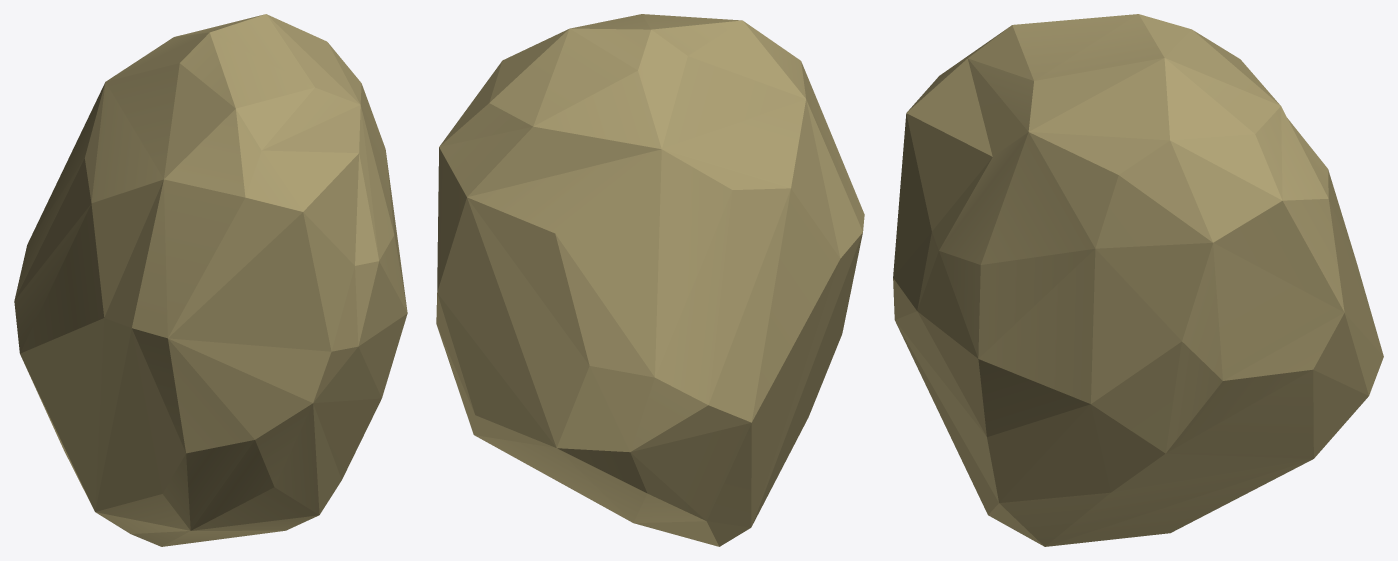
File: SM_small_rock_05.fbx
The picture shows the model from 3 angles, left to right: view 1: azimuth 30°, elevation 25°; view 2: azimuth 150°, elevation 25°; view 3: azimuth 270°, elevation 25°; orthographic projection. The views are drawn at different scales.
Parts seen in each view (by area): view 1: small_rock_05; view 2: small_rock_05; view 3: small_rock_05.
Part boxes in pixels (x1=…): small_rock_05: x1=14, y1=14, x2=407, y2=546; small_rock_05: x1=436, y1=14, x2=864, y2=546; small_rock_05: x1=893, y1=14, x2=1383, y2=546.
Bounding box in the file's own units: 61.69 × 89.46 × 74.55.
